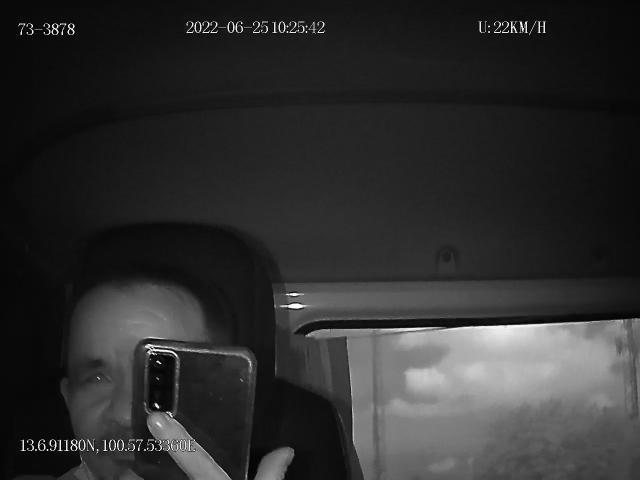PhoneUse: (130, 336, 256, 480)
SafeDriving: (74, 359, 117, 399)
